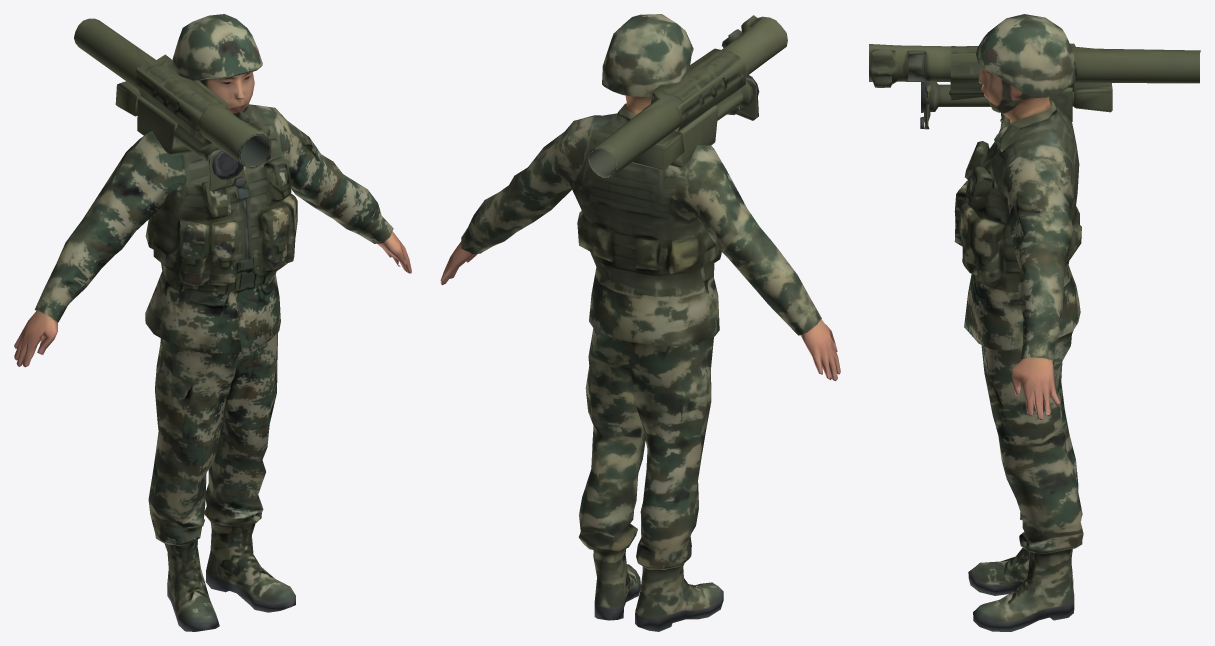
The model's file is cn-hj-team.glb.
The picture shows the model from 3 angles, left to right: view 1: azimuth 30°, elevation 25°; view 2: azimuth 150°, elevation 25°; view 3: azimuth 270°, elevation 25°; orthographic projection.
Visible parts, largest first — view 1: geometry_0; view 2: geometry_0; view 3: geometry_0.
Part boxes in pixels (x1,y1,x2,y2): geometry_0: (14, 14, 411, 631); geometry_0: (440, 14, 840, 631); geometry_0: (869, 14, 1200, 631).
Size of the model in its own units: 0.6636 by 0.9512 by 0.4878.
1 material, 1 textured.
